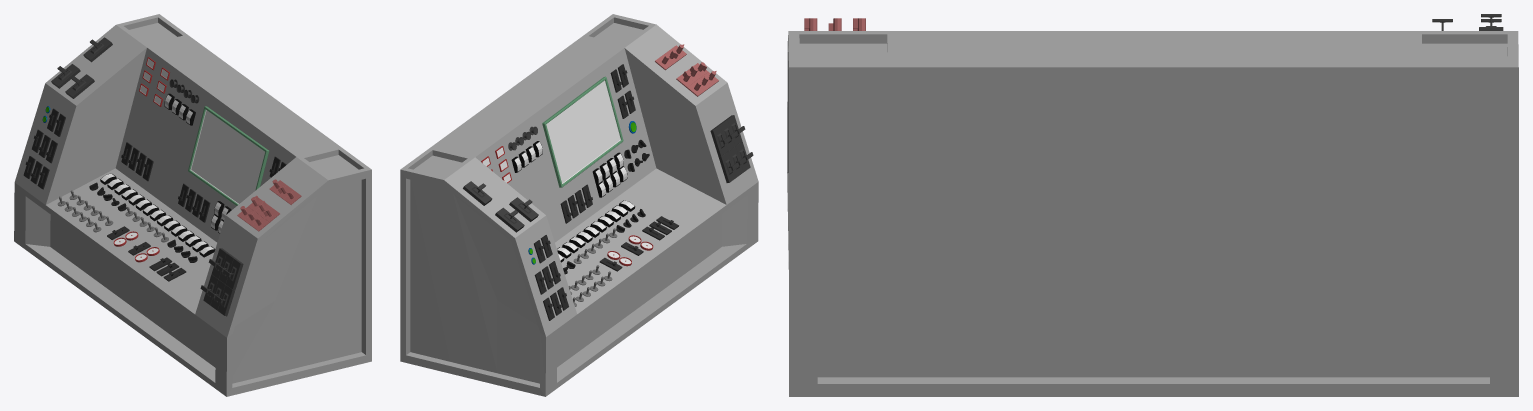
The model's file is console_03.fbx.
3 views of the same model, side by side, from view 1: azimuth 30°, elevation 25°; view 2: azimuth 150°, elevation 25°; view 3: azimuth 270°, elevation 25° (orthographic). The views are drawn at different scales.
Parts seen in each view (by area): view 1: pCube1, display_03:pCube1, pCube15, pCube16, pCube14, pCube4, pCube3; view 2: pCube1, display_03:pCube1, pCube14, pCube15, pCube6, pCube16, lever_01:pCube1; view 3: pCube1.
Part boxes in pixels (box(x1,y1,x2,y2)): pCube1: box(14, 14, 371, 396); display_03:pCube1: box(188, 106, 269, 205); pCube15: box(65, 74, 94, 98); pCube16: box(83, 37, 112, 62); pCube14: box(51, 64, 80, 88); pCube4: box(223, 258, 243, 289); pCube3: box(215, 285, 235, 316); pCube1: box(400, 14, 758, 396); display_03:pCube1: box(542, 76, 623, 187); pCube14: box(495, 207, 524, 232); pCube15: box(509, 197, 538, 221); pCube6: box(710, 125, 730, 156); pCube16: box(463, 181, 492, 205); lever_01:pCube1: box(718, 152, 739, 182); pCube1: box(787, 31, 1518, 396).
Bounding box in the file's own units: 119 × 149 × 301.
